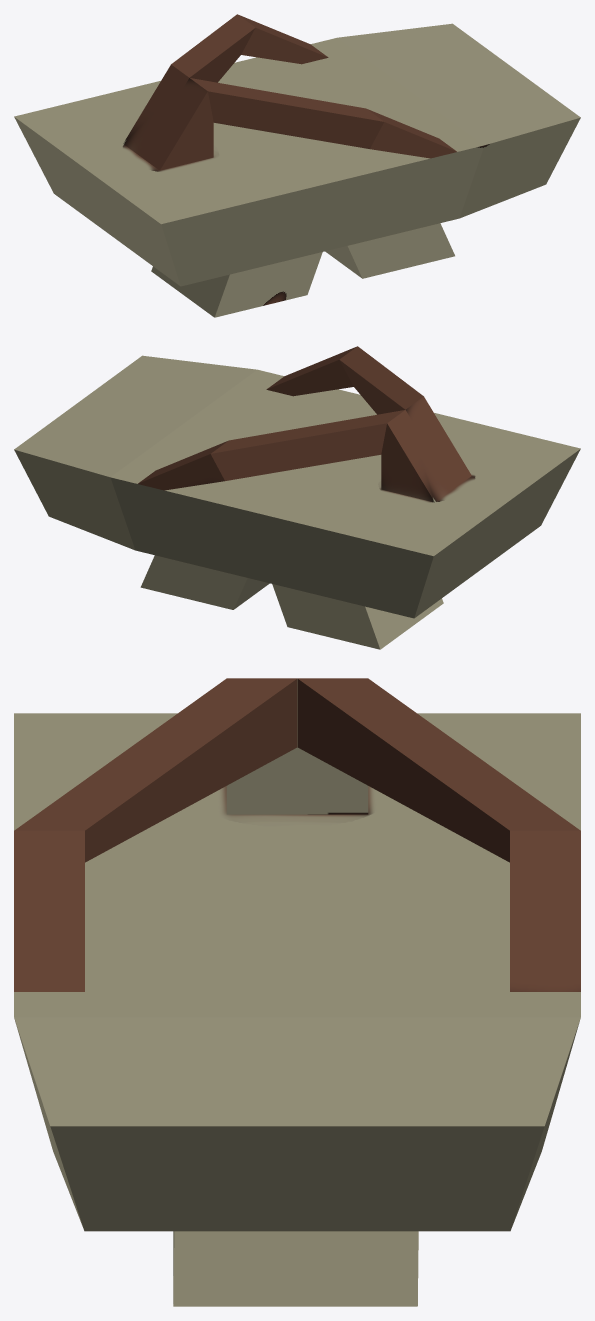
Rendered from chinela.fbx.
3 renders of one model, top to bottom at view 1: azimuth 30°, elevation 25°; view 2: azimuth 150°, elevation 25°; view 3: azimuth 270°, elevation 25°, orthographic. The views are drawn at different scales.
Parts seen in each view (by area): view 1: Cube; view 2: Cube; view 3: Cube.
Boxes of the visible parts, bbox=[...] form: Cube: bbox=[14, 14, 580, 317]; Cube: bbox=[14, 346, 580, 649]; Cube: bbox=[14, 678, 580, 1306].
Bounding box in the file's own units: 199 × 95.35 × 118.
Materials: 1 (1 with a texture image).
